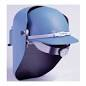helmets: (14, 8, 80, 56)
